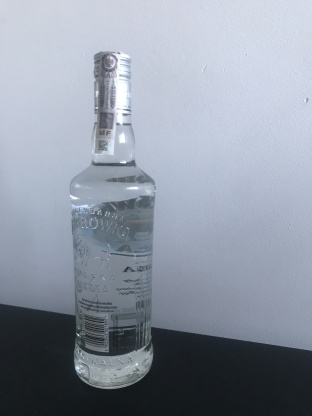nakretka: (91, 47, 133, 119)
